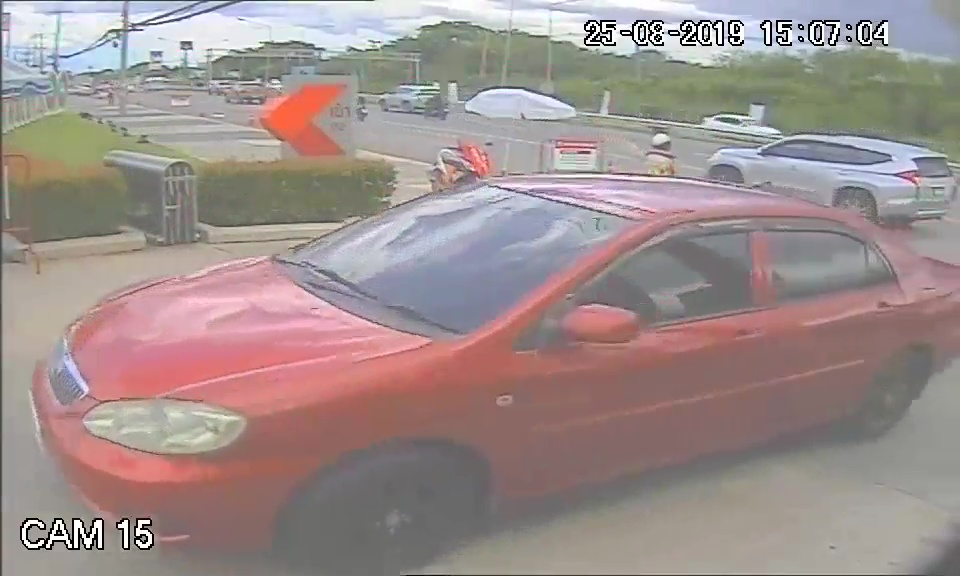sedan: (28, 174, 952, 511)
